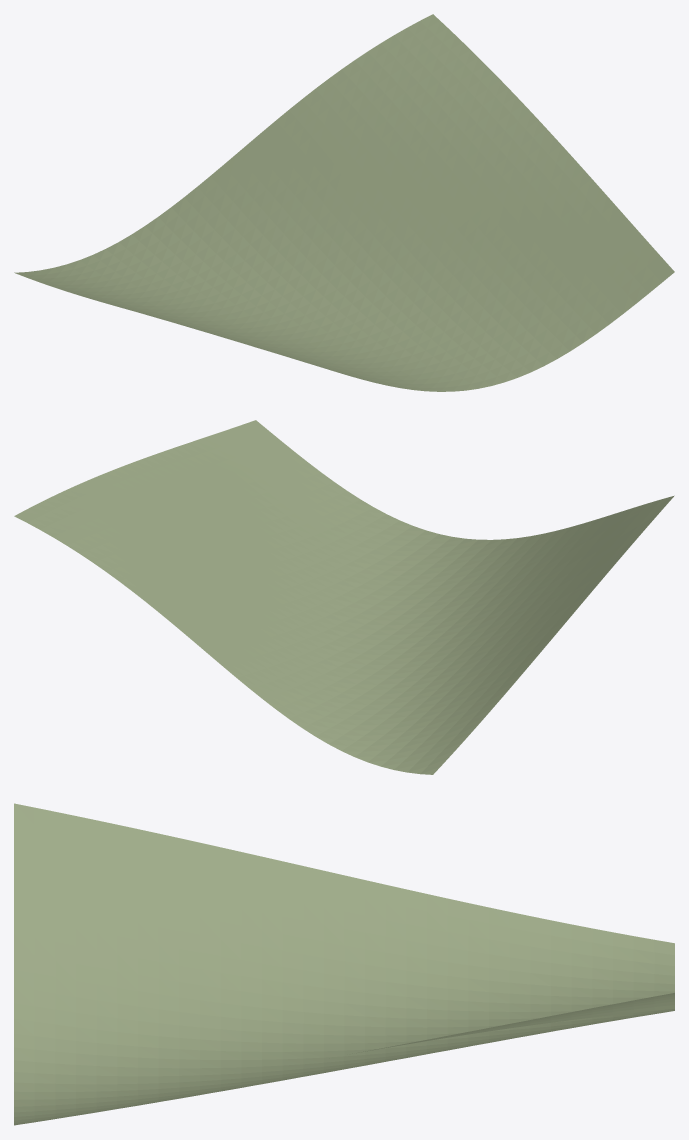
Rendered from expanse-12-22.glb.
3 renders of one model, top to bottom at view 1: azimuth 30°, elevation 25°; view 2: azimuth 150°, elevation 25°; view 3: azimuth 270°, elevation 25°, orthographic. The views are drawn at different scales.
Parts seen in each view (by area): view 1: expanse-12-22; view 2: expanse-12-22; view 3: expanse-12-22.
Part boxes in pixels (x1,y1,x2,y2): expanse-12-22: (14,14,674,391); expanse-12-22: (14,420,674,774); expanse-12-22: (14,803,674,1125).
Size of the model in its own units: 256 by 94.07 by 256.
